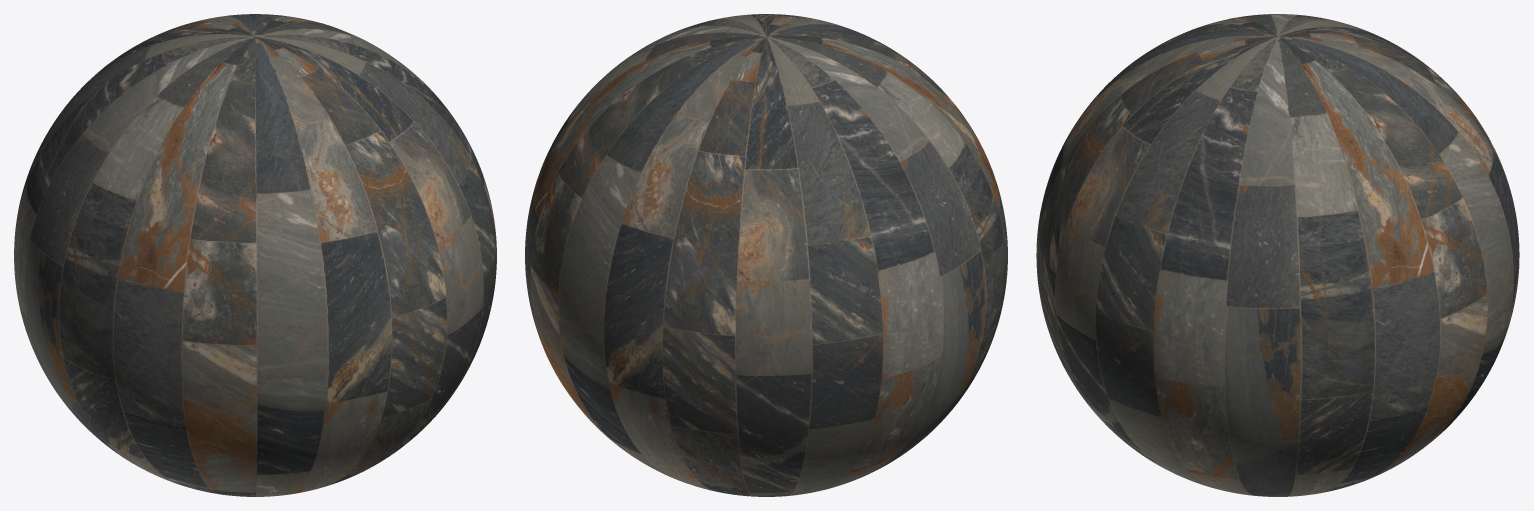
File: grey_cartago_03_2k.gltf
3 renders of one model, left to right at view 1: azimuth 30°, elevation 25°; view 2: azimuth 150°, elevation 25°; view 3: azimuth 270°, elevation 25°, orthographic.
Parts seen in each view (by area): view 1: sphere_gltf; view 2: sphere_gltf; view 3: sphere_gltf.
Boxes of the visible parts, x1,y1,x2,y2 form: sphere_gltf: (14, 14, 496, 496); sphere_gltf: (525, 14, 1007, 496); sphere_gltf: (1036, 14, 1519, 496).
Size of the model in its own units: 0.9297 by 0.9297 by 0.9298.
Materials: 1 (1 with a texture image).
